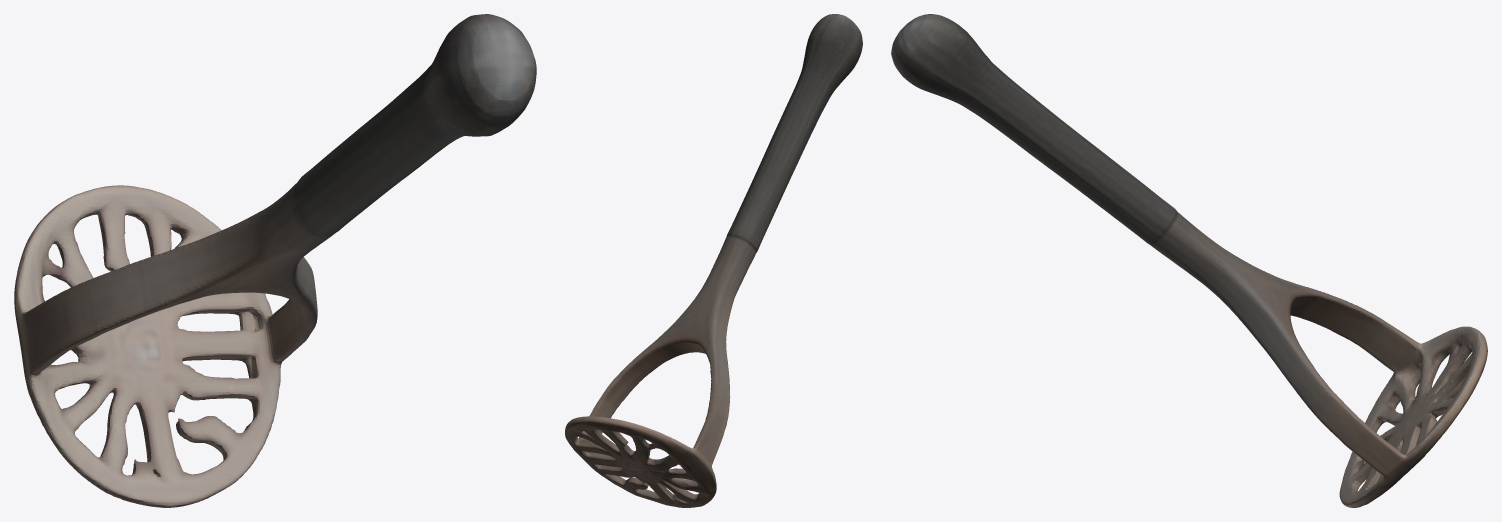
The model's file is frame_0001_source_000001_object.glb.
3 views of the same model, side by side, from view 1: azimuth 30°, elevation 25°; view 2: azimuth 150°, elevation 25°; view 3: azimuth 270°, elevation 25° (orthographic). The views are drawn at different scales.
Visible parts, largest first — view 1: world; view 2: world; view 3: world.
Part boxes in pixels (left/top/right/bottom): world: left=14, top=14, right=536, bottom=507; world: left=565, top=14, right=862, bottom=507; world: left=891, top=14, right=1487, bottom=507.
Bounding box in the file's own units: 0.074 × 0.1985 × 0.2247.
